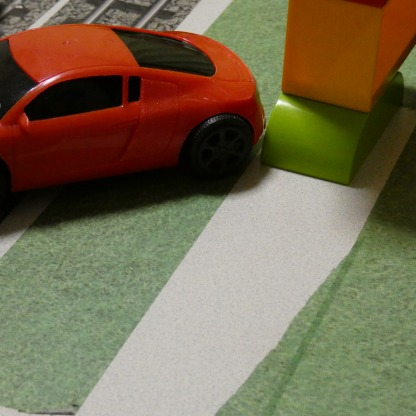car: (0, 24, 263, 193)
